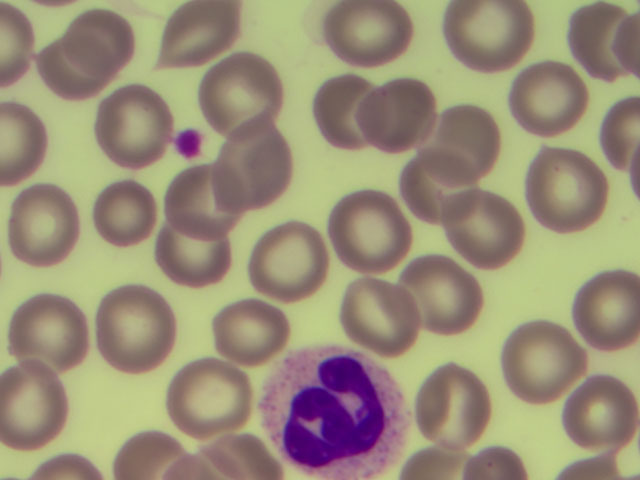Platelets: (176, 129, 203, 158)
RBC: (500, 321, 586, 401), (507, 62, 588, 141), (443, 1, 533, 72), (96, 86, 173, 168), (251, 221, 327, 303), (527, 151, 603, 232), (230, 110, 289, 213), (103, 286, 173, 372), (403, 151, 482, 226), (325, 1, 413, 68), (448, 189, 524, 266), (332, 197, 409, 272), (10, 293, 84, 370), (205, 59, 282, 132), (405, 259, 480, 333), (170, 362, 249, 432), (424, 362, 488, 448), (167, 167, 243, 239), (157, 216, 230, 288), (14, 184, 81, 262), (428, 105, 497, 180), (38, 29, 107, 101), (1, 367, 62, 448), (167, 2, 245, 64), (66, 10, 133, 82), (583, 273, 640, 353), (369, 83, 434, 152), (318, 77, 378, 151), (351, 280, 420, 343), (573, 386, 634, 451), (1, 99, 45, 189), (222, 301, 282, 362), (570, 4, 617, 78), (94, 189, 151, 243), (117, 438, 184, 480), (562, 445, 640, 480), (607, 102, 640, 183), (204, 440, 270, 480), (1, 1, 32, 86), (465, 447, 531, 480), (409, 450, 477, 480), (30, 454, 97, 480), (613, 16, 640, 68), (170, 456, 228, 480)
WBC: (274, 354, 406, 480)
